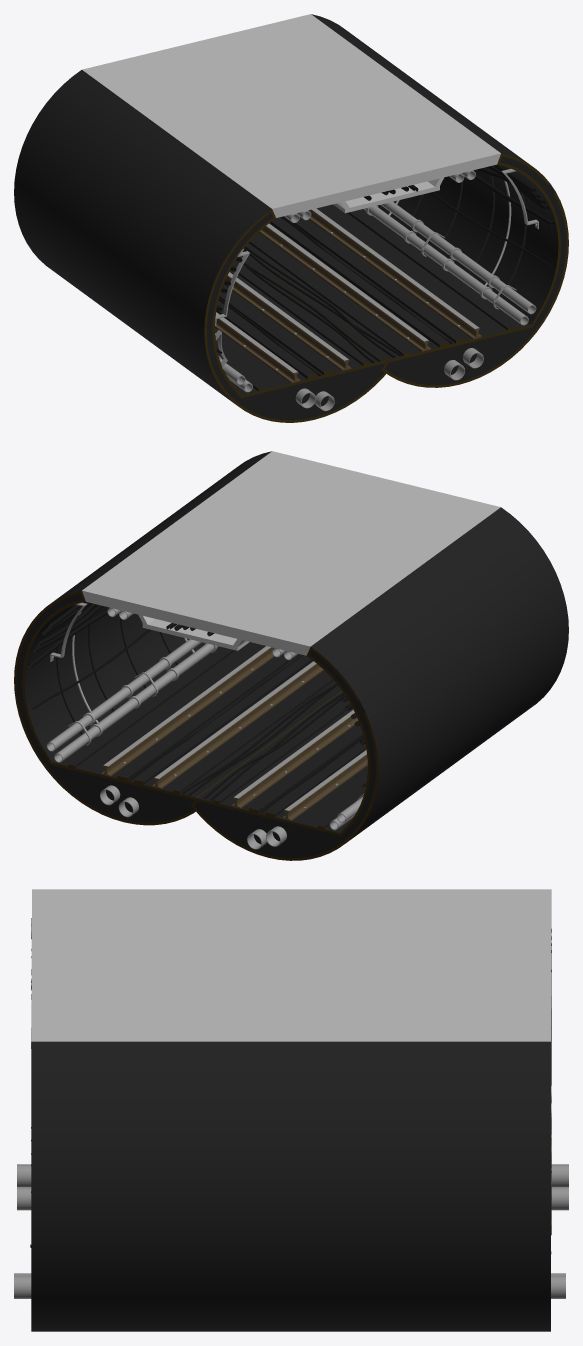
Rendered from TUNNELPART1Final.fbx.
The picture shows the model from 3 angles, top to bottom: view 1: azimuth 30°, elevation 25°; view 2: azimuth 150°, elevation 25°; view 3: azimuth 270°, elevation 25°; orthographic projection. The views are drawn at different scales.
Parts seen in each view (by area): view 1: polySurfaceShape1013; view 2: polySurfaceShape1013; view 3: polySurfaceShape1013.
Boxes of the visible parts, box(x1,y1,x2,y2) form: polySurfaceShape1013: box(14, 14, 568, 422); polySurfaceShape1013: box(14, 451, 568, 860); polySurfaceShape1013: box(14, 889, 568, 1331).
Bounding box in the file's own units: 332 × 192 × 320.
